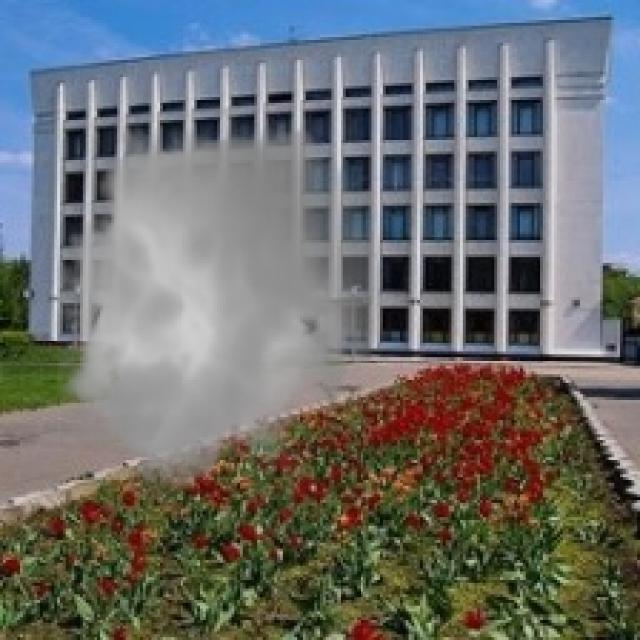smoke: (43, 108, 394, 503)
